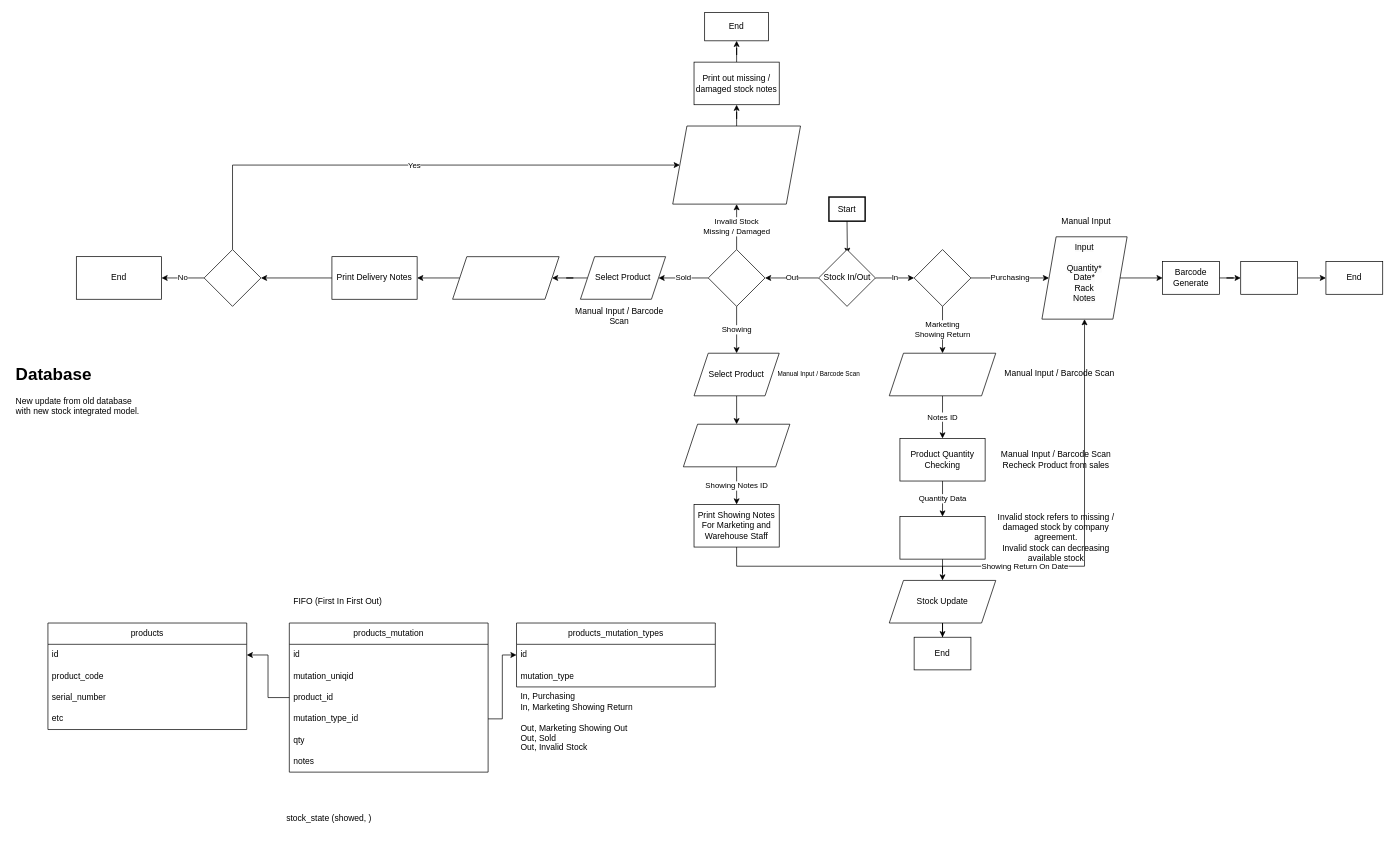
Some shapes in this 1395 by 841 pixel diagram are drawn without their labels. The centre of each missing label's shape, as x and y in pixels:
Available Stock (-): pixel 505 277
Available Stock (-) Input Quantity* Date* Notes: pixel 736 164
Available Stock (-) Showing Stock (+): pixel 736 445
Barcode Printout: pixel 1269 277
Has Order Return: pixel 232 277
In Type: pixel 942 277
Out Type: pixel 736 277
Scan Showing Notes: pixel 942 374
Showing Stock (-) Available Stock (+) Invalid Stock(+/-): pixel 942 537
